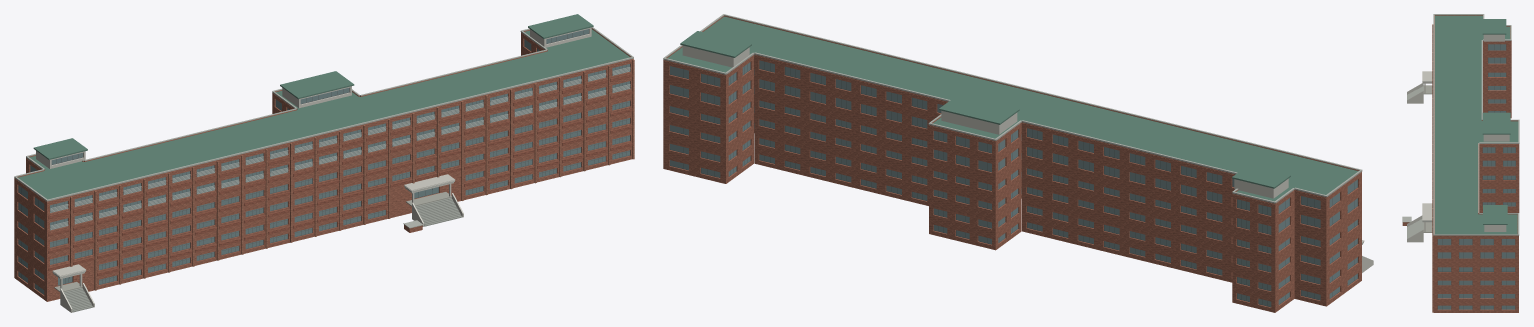
3 views of the same model, side by side, from view 1: azimuth 30°, elevation 25°; view 2: azimuth 150°, elevation 25°; view 3: azimuth 270°, elevation 25° (orthographic). The views are drawn at different scales.
Visible parts, largest first — view 1: main__brick, main__roof, main__glass, main__brickRecess, main__pier, main__frame, main__louver, main__trim, main__white, main; view 2: main__brick, main__roof, main__glass, main__frame, main__trim, main__white; view 3: main__roof, main__brick, main__glass, main__white, main__trim, main__frame, main__pier, main, main__threshold_entry, main__threshold_west.
Boxes of the visible parts, x1,y1,x2,y2 form: main__brick: [14, 28, 633, 301]; main__roof: [18, 14, 629, 199]; main__glass: [18, 29, 629, 294]; main__brickRecess: [48, 74, 632, 276]; main__pier: [70, 59, 634, 290]; main__frame: [18, 29, 630, 294]; main__louver: [50, 67, 630, 230]; main__trim: [14, 27, 633, 277]; main__white: [36, 27, 591, 312]; main: [64, 197, 462, 312]; main__brick: [663, 15, 1361, 312]; main__roof: [667, 16, 1358, 201]; main__glass: [670, 55, 1357, 306]; main__frame: [669, 60, 1357, 307]; main__trim: [663, 14, 1363, 243]; main__white: [682, 45, 1373, 272]; main__roof: [1435, 15, 1518, 234]; main__brick: [1402, 15, 1519, 312]; main__glass: [1438, 44, 1515, 309]; main__white: [1407, 34, 1509, 242]; main__trim: [1402, 14, 1519, 235]; main__frame: [1437, 44, 1515, 309]; main__pier: [1432, 24, 1433, 312]; main: [1407, 86, 1423, 238]; main__threshold_entry: [1423, 222, 1432, 232]; main__threshold_west: [1423, 85, 1432, 94].
Bounding box in the file's own units: 117 × 21.34 × 26.38.
40 materials, 3 textured.
